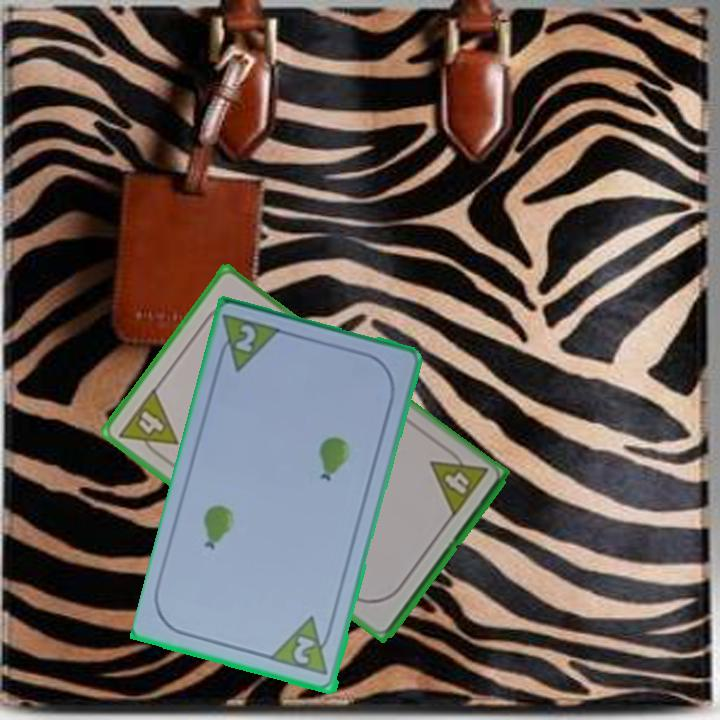2p: (269, 613, 337, 679), (232, 321, 259, 356)
4p: (115, 384, 181, 464), (426, 442, 490, 521)
